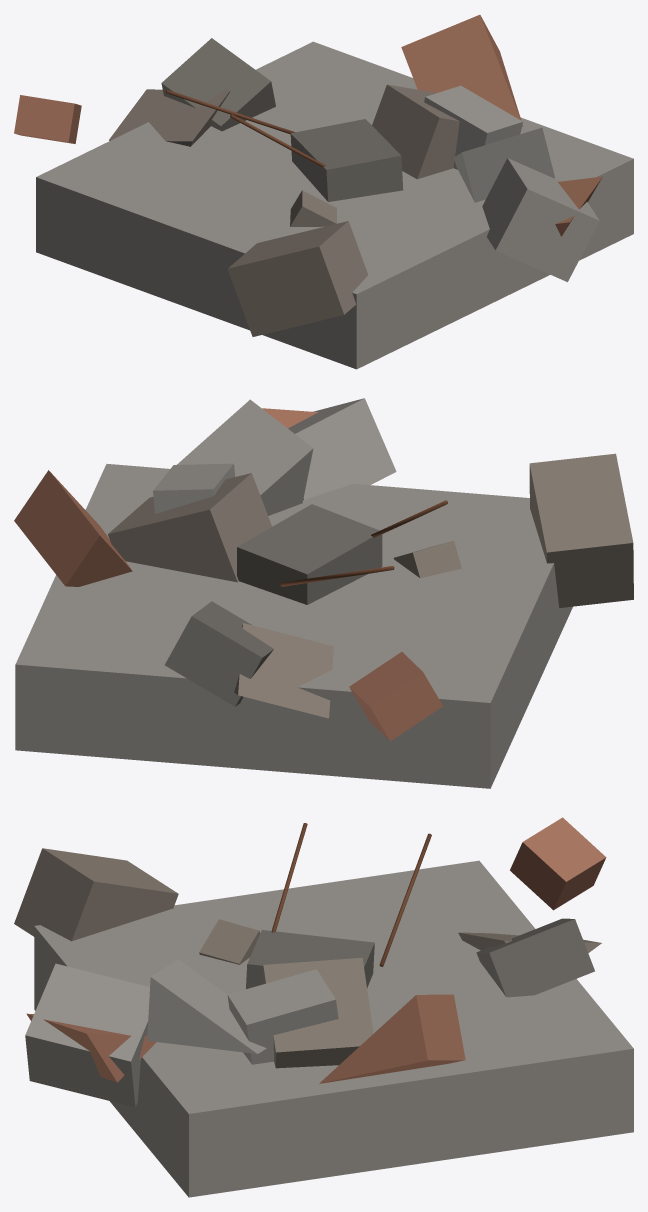
The model's file is Rubble2.fbx.
The picture shows the model from 3 angles, top to bottom: view 1: azimuth 30°, elevation 25°; view 2: azimuth 150°, elevation 25°; view 3: azimuth 270°, elevation 25°; orthographic projection. The views are drawn at different scales.
Parts seen in each view (by area): view 1: Core, Chunk2, Chunk5, Chunk8, Chunk9, Chunk1, Chunk4, Chunk6, Chunk0, Chunk11, Chunk10, Chunk7 (+2 smaller); view 2: Core, Chunk2, Chunk4, Chunk8, Chunk6, Chunk9, Chunk5, Chunk1, Chunk0, Chunk10, Chunk11, Chunk7 (+2 smaller); view 3: Core, Chunk5, Chunk2, Chunk4, Chunk9, Chunk6, Chunk1, Chunk11, Chunk10, Chunk8, Chunk3, Chunk7 (+3 smaller).
Boxes of the visible parts, box(x1,y1,x2,y2) form: Core: box(36, 41, 633, 369); Chunk2: box(228, 221, 368, 336); Chunk5: box(482, 158, 599, 282); Chunk8: box(290, 119, 403, 201); Chunk9: box(401, 14, 523, 126); Chunk1: box(161, 38, 275, 131); Chunk4: box(372, 84, 459, 179); Chunk6: box(454, 127, 554, 202); Chunk0: box(109, 89, 229, 146); Chunk11: box(424, 85, 522, 169); Chunk10: box(14, 95, 81, 143); Chunk7: box(290, 190, 336, 226); Core: box(15, 463, 572, 788); Chunk2: box(529, 453, 633, 607); Chunk4: box(108, 473, 272, 582); Chunk8: box(237, 504, 382, 604); Chunk6: box(152, 399, 313, 515); Chunk9: box(14, 470, 132, 586); Chunk5: box(288, 398, 396, 499); Chunk1: box(165, 601, 273, 706); Chunk0: box(234, 623, 333, 718); Chunk10: box(349, 652, 442, 741); Chunk11: box(153, 463, 234, 513); Chunk7: box(393, 540, 461, 578); Core: box(34, 860, 633, 1197); Chunk5: box(25, 963, 149, 1107); Chunk2: box(14, 848, 178, 941); Chunk4: box(263, 957, 373, 1068); Chunk9: box(319, 994, 465, 1083); Chunk6: box(147, 959, 266, 1053); Chunk1: box(476, 918, 594, 997); Chunk11: box(227, 969, 338, 1064); Chunk10: box(510, 817, 606, 910); Chunk8: box(246, 930, 374, 989); Chunk3: box(26, 1013, 156, 1082); Chunk7: box(199, 919, 260, 964).
Bounding box in the file's own units: 585 × 605 × 199.
